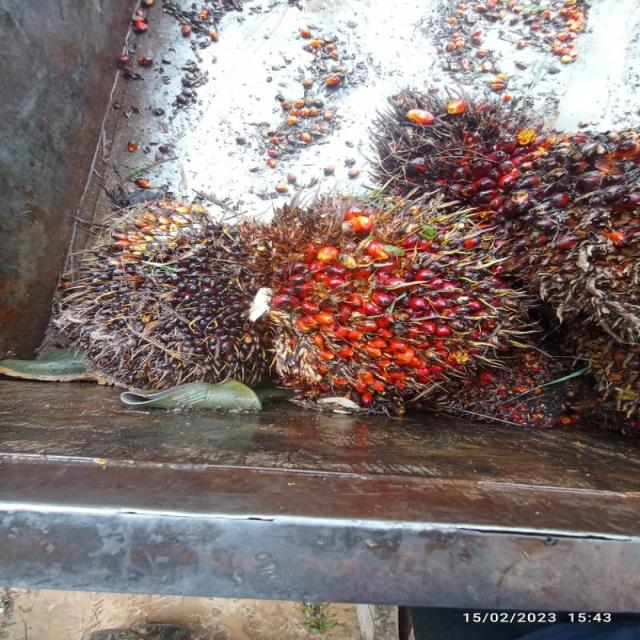fraksi 00: (23, 178, 303, 409)
fraksi 4: (189, 180, 547, 420)
